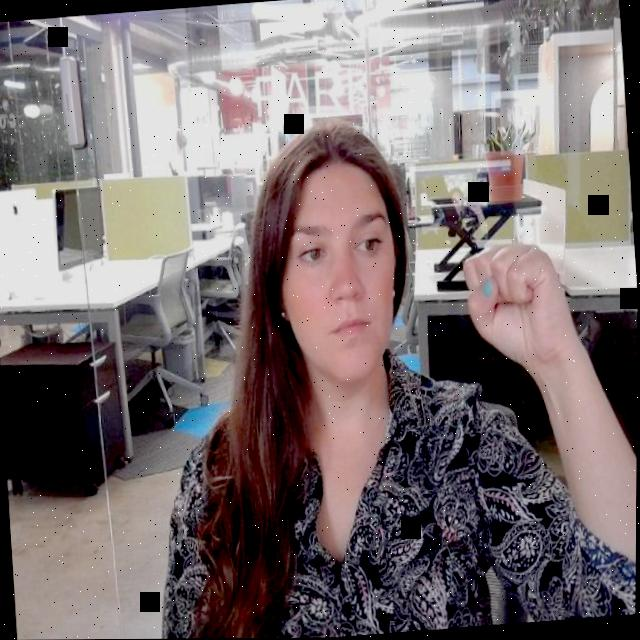Rock: (450, 221, 585, 388)
